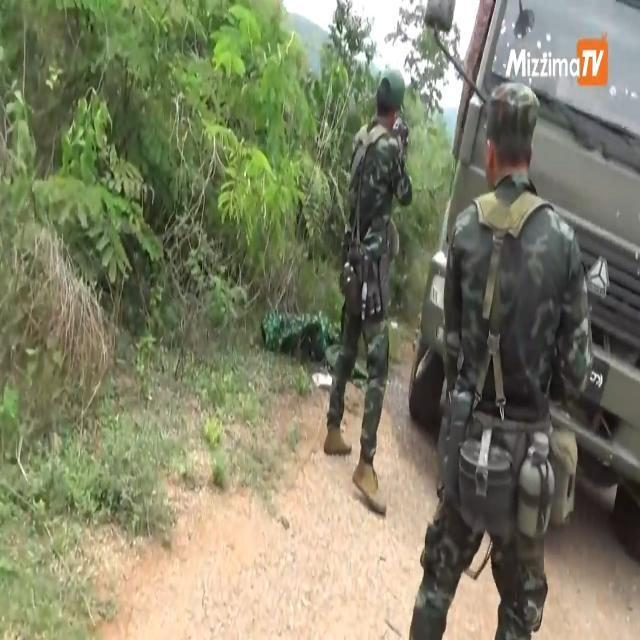MIL_Pax: (411, 80, 591, 638), (326, 71, 412, 506)
